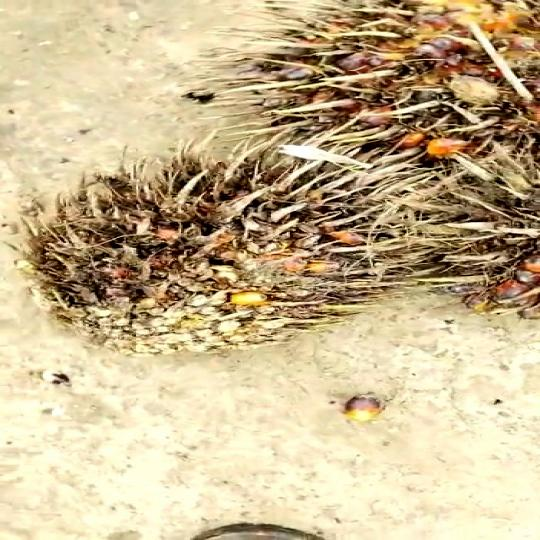terlalu masak: (0, 140, 420, 362)
